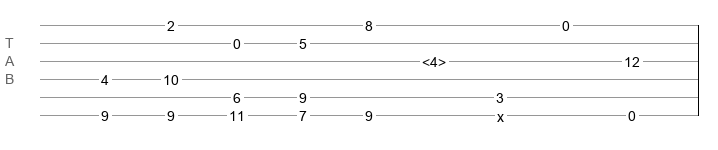0: (233, 36, 241, 46), (562, 18, 570, 28), (628, 108, 636, 118)
10: (163, 72, 179, 82)
11: (229, 108, 245, 118)
12: (624, 54, 640, 64)
2: (167, 18, 175, 28)
3: (496, 90, 504, 100)
4: (101, 72, 109, 82)
5: (299, 36, 307, 46)
6: (233, 90, 241, 100)
7: (299, 108, 307, 118)
8: (365, 18, 373, 28)
9: (101, 108, 109, 118), (167, 108, 175, 118), (299, 90, 307, 100), (365, 108, 373, 118)
harmonic: (422, 54, 446, 64)
x: (497, 109, 504, 117)
